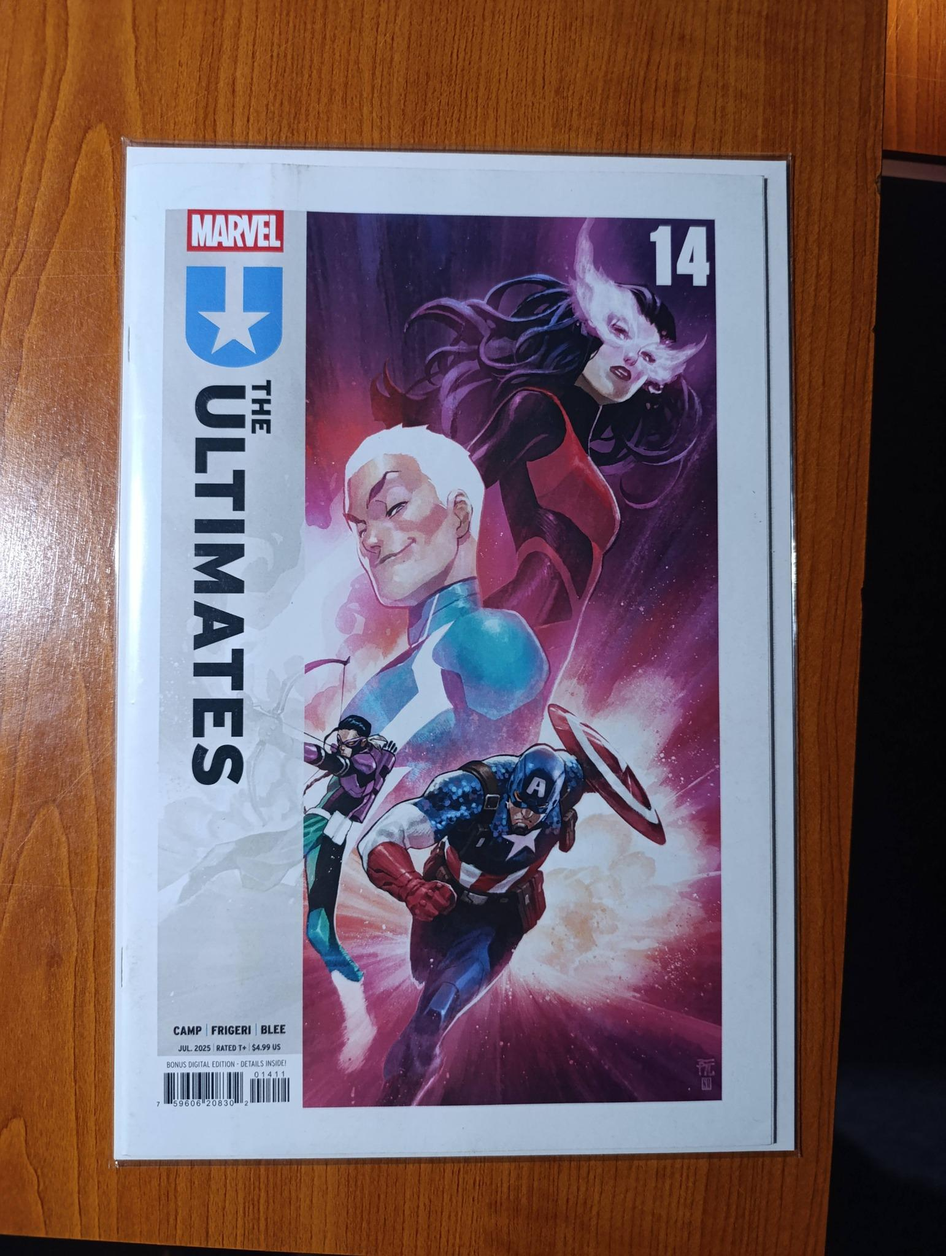comic: (116, 146, 799, 1162)
